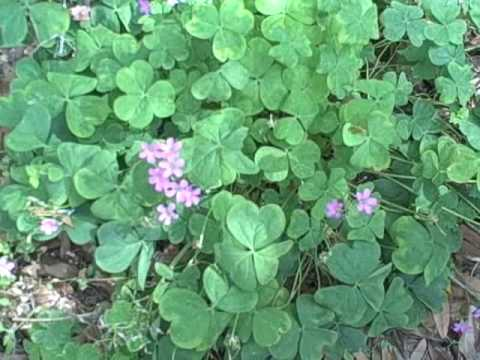oxalis: (28, 25, 478, 360)
